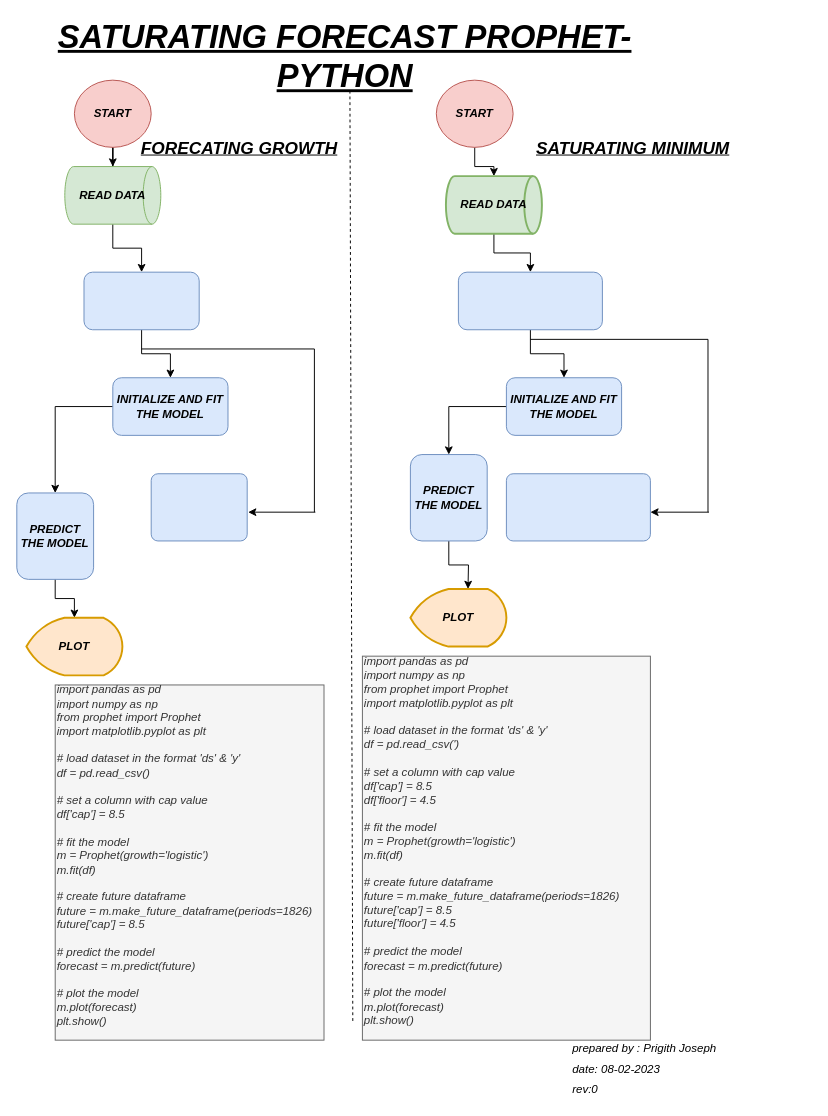
This 828x1116 diagram has some shape labels left out. The centre of each missing label's shape, as x and y in pixels:
"MAKE FUTURE DATAFRAME WITH CAP & FLOOR COLUMN" goes at point (577, 507).
"MAKE FUTURE DATAFRAME WITH CAP COLUMN" goes at point (198, 507).
"SET CARRIYING CAPACITY & FLOOR COLUMN" goes at point (529, 300).
"SET CARRIYING CAPACITY COLUMN" goes at point (141, 300).
